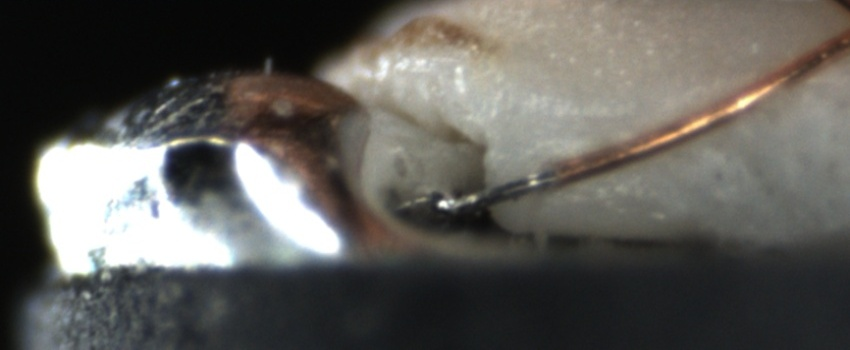DL: (536, 103, 639, 151)
TS: (440, 164, 558, 212)
